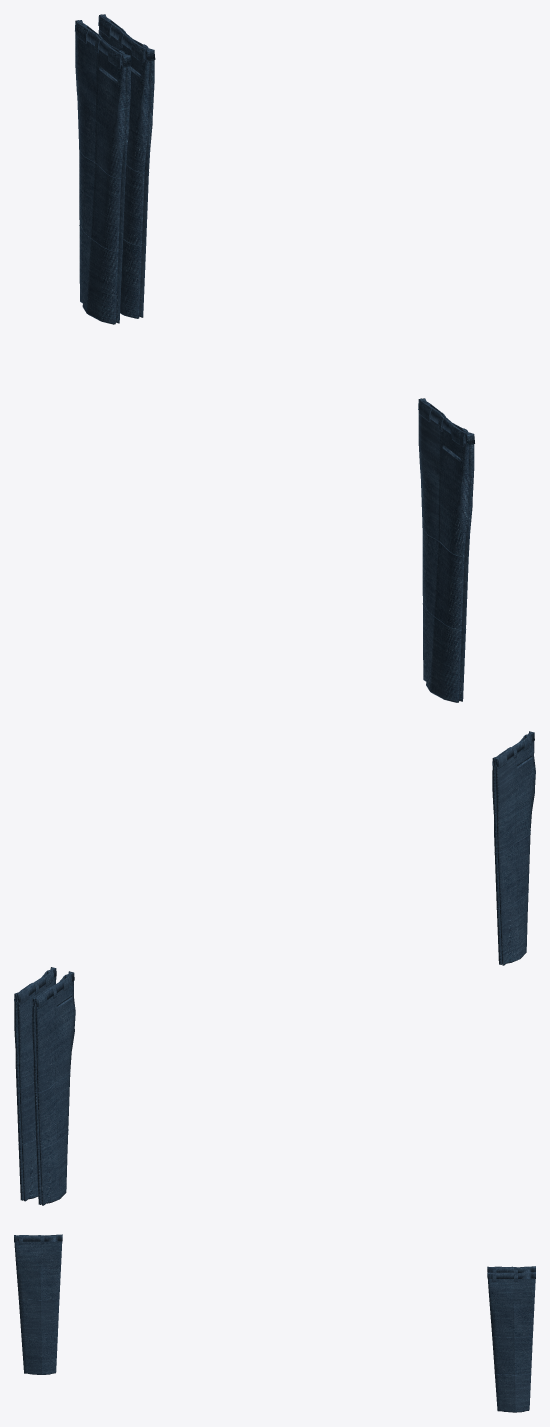
File: yifu0905_kuzi03.fbx
3 renders of one model, top to bottom at view 1: azimuth 30°, elevation 25°; view 2: azimuth 150°, elevation 25°; view 3: azimuth 270°, elevation 25°, orthographic. The views are drawn at different scales.
Visible parts, largest first — view 1: yifu0905_kuzi03; view 2: yifu0905_kuzi03; view 3: yifu0905_kuzi03.
Part boxes in pixels (x1,y1,x2,y2): yifu0905_kuzi03: (75, 14, 474, 702); yifu0905_kuzi03: (14, 731, 535, 1205); yifu0905_kuzi03: (14, 1234, 535, 1412).
Size of the model in its own units: 67.94 by 103 by 352.
